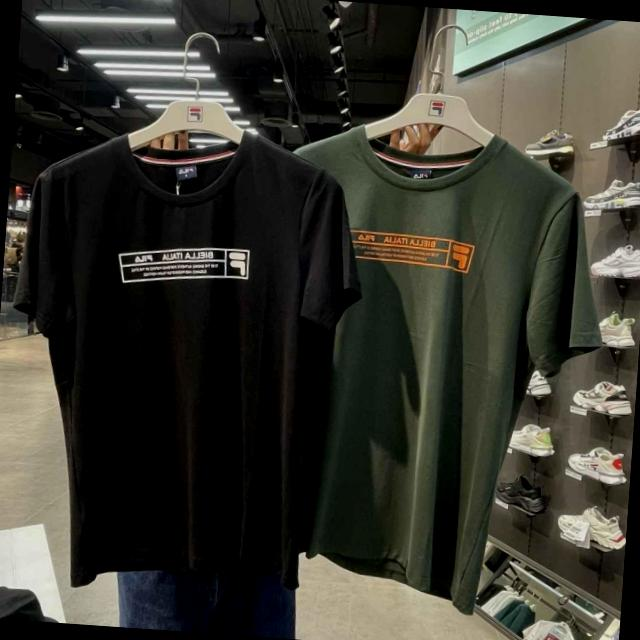Tshirt: (1, 120, 353, 587), (308, 120, 596, 578)
